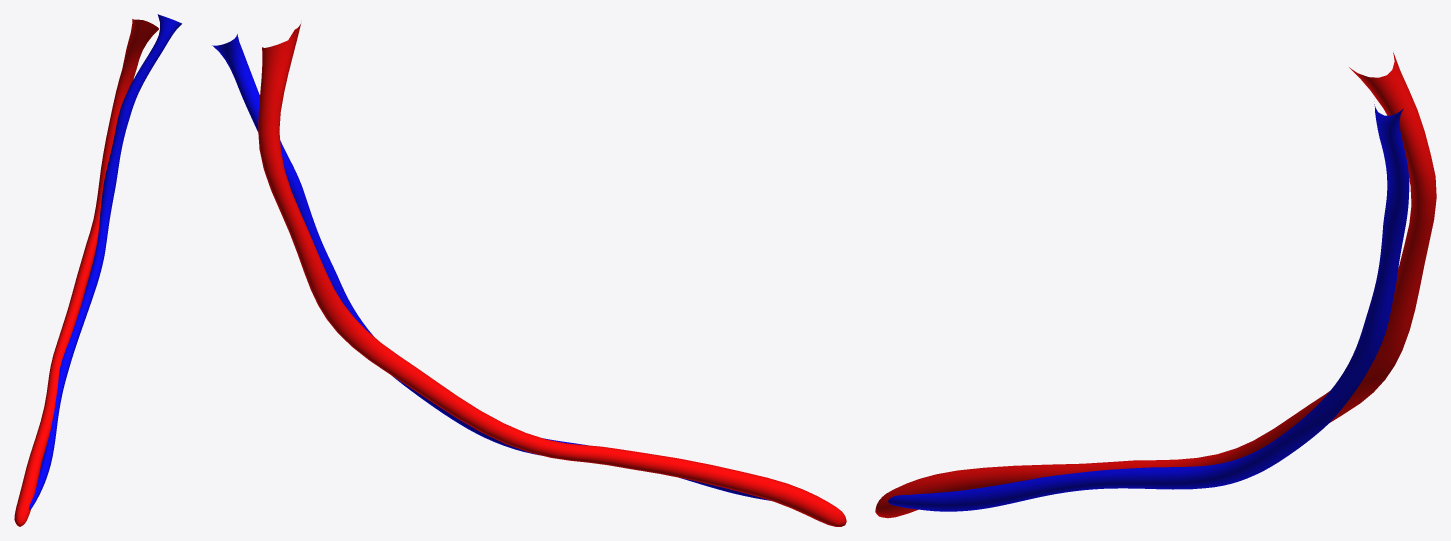
File: VH_F_Blood_Vasculature_Gallbladder.glb
3 views of the same model, side by side, from view 1: azimuth 30°, elevation 25°; view 2: azimuth 150°, elevation 25°; view 3: azimuth 270°, elevation 25° (orthographic). The views are drawn at different scales.
Visible parts, largest first — view 1: VH_F_cystic_artery, VH_F_cystic_vein; view 2: VH_F_cystic_artery, VH_F_cystic_vein; view 3: VH_F_cystic_vein, VH_F_cystic_artery.
Boxes of the visible parts, bbox=[...] form: VH_F_cystic_artery: bbox=[14, 19, 158, 526]; VH_F_cystic_vein: bbox=[29, 14, 181, 509]; VH_F_cystic_artery: bbox=[258, 24, 846, 526]; VH_F_cystic_vein: bbox=[212, 34, 770, 500]; VH_F_cystic_vein: bbox=[888, 104, 1409, 511]; VH_F_cystic_artery: bbox=[875, 52, 1436, 518].
Size of the model in its own units: 0.0488 by 0.0582 by 0.0408.
